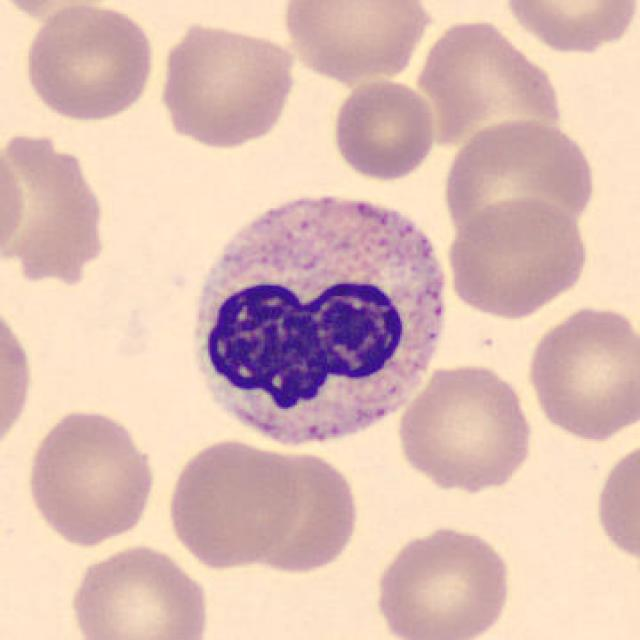Neutrophil: (176, 182, 457, 464)
RBC: (439, 112, 599, 248), (411, 14, 567, 150), (21, 404, 160, 548), (162, 434, 306, 571), (154, 17, 298, 152), (393, 359, 537, 494), (443, 194, 592, 321), (233, 444, 364, 578), (370, 522, 516, 640), (19, 0, 158, 123), (523, 300, 638, 444), (5, 135, 110, 289), (66, 541, 213, 640), (279, 0, 436, 85), (329, 76, 439, 183), (499, 0, 638, 56), (592, 434, 638, 570), (0, 294, 37, 461), (0, 134, 30, 268), (0, 0, 124, 24)
